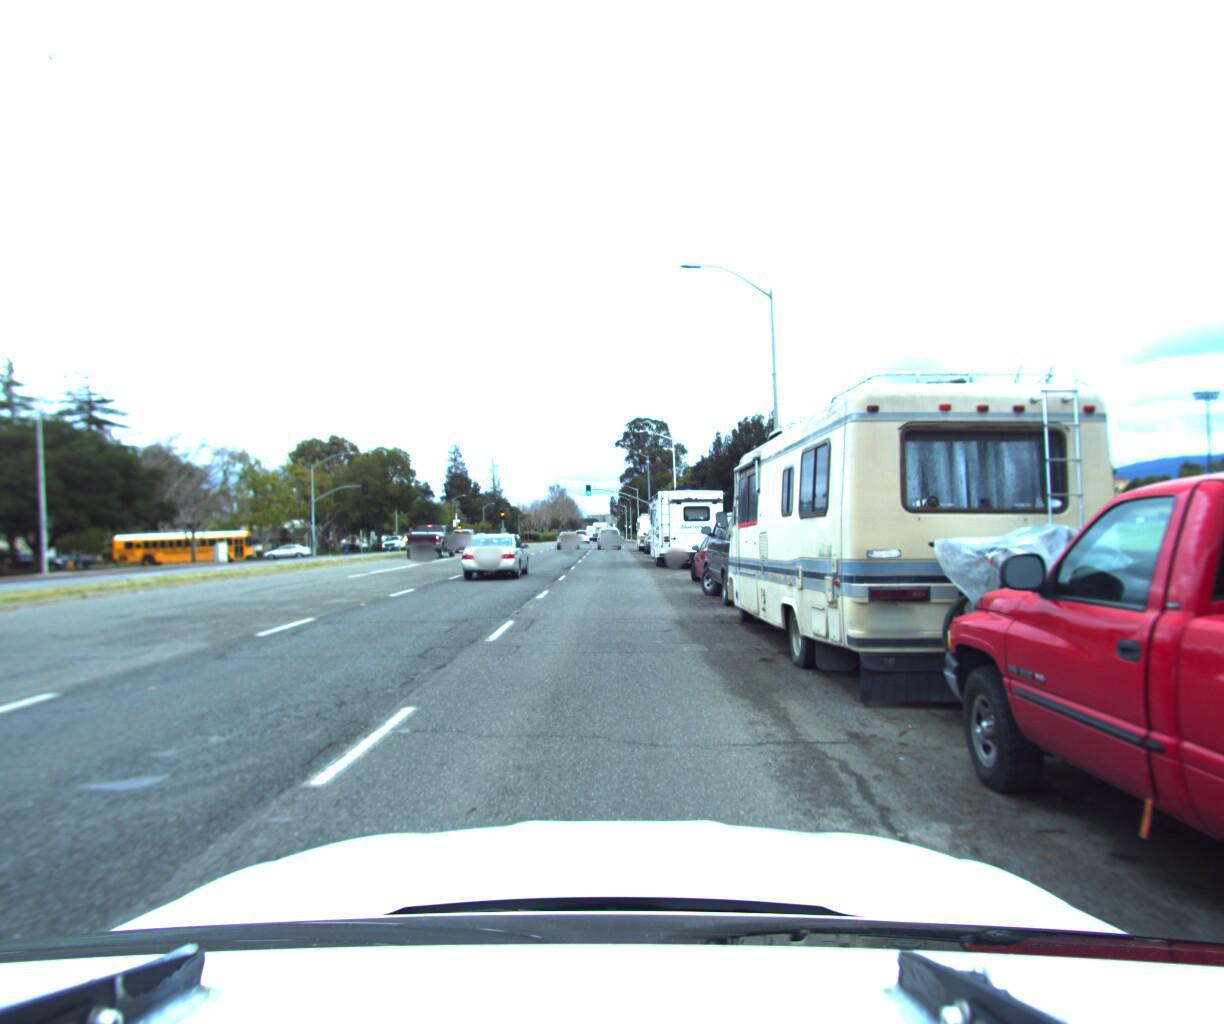bus: (109, 530, 266, 575)
car: (903, 144, 1224, 1024), (697, 498, 845, 608), (687, 524, 779, 585), (458, 527, 533, 579), (402, 523, 455, 557), (444, 522, 485, 549), (0, 538, 6, 708), (638, 524, 674, 551), (263, 536, 313, 555), (596, 521, 624, 545), (555, 527, 582, 547)
other_vehicle: (705, 315, 1224, 743), (642, 471, 733, 565), (626, 505, 665, 548)
